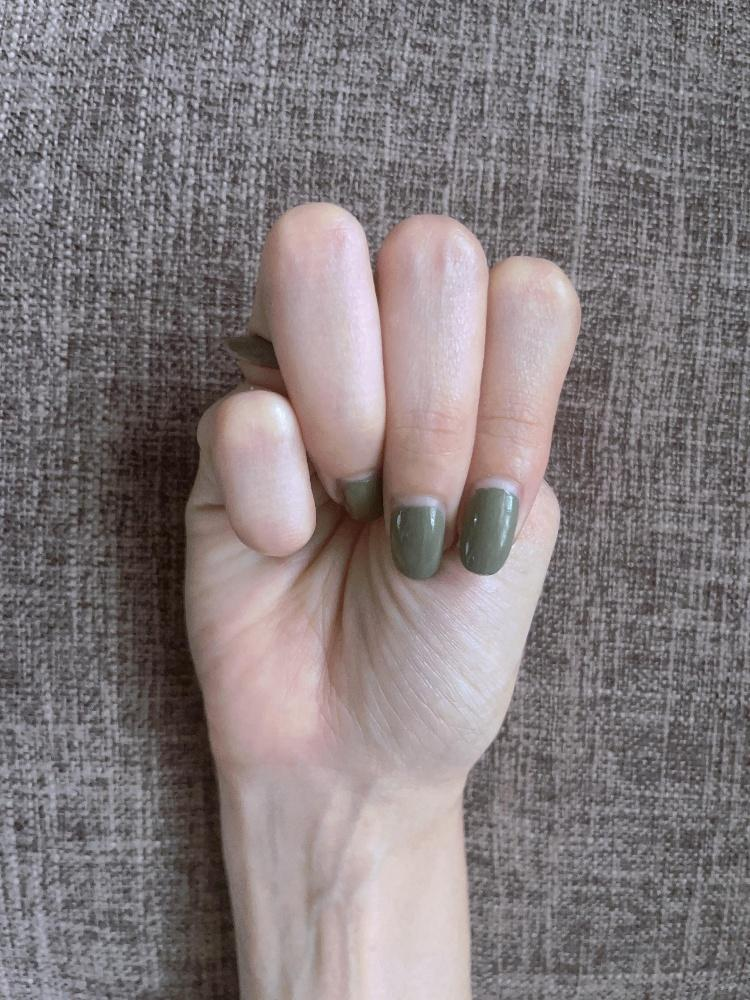m: (183, 192, 586, 776)
